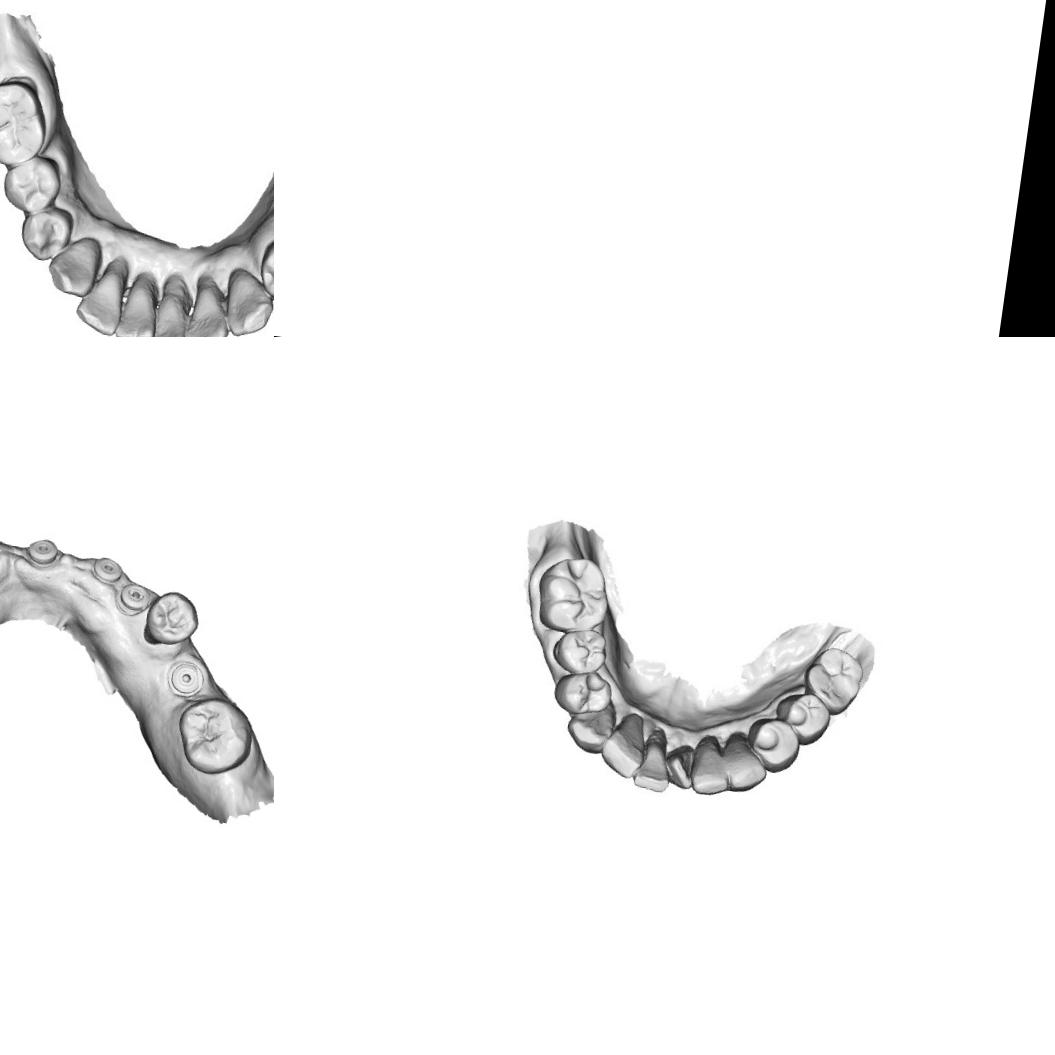canine: (45, 232, 104, 300), (718, 729, 774, 799), (223, 267, 274, 337), (562, 700, 618, 756)
implant: (164, 657, 206, 700), (24, 536, 61, 570), (88, 554, 124, 587)
implant_minus: (112, 579, 154, 618)
incisor: (72, 249, 128, 337), (596, 706, 648, 779), (628, 729, 675, 795), (181, 282, 235, 337), (115, 271, 158, 337), (140, 288, 191, 337), (692, 738, 732, 791), (663, 741, 698, 790)
molar: (170, 693, 258, 780), (534, 553, 616, 639), (0, 74, 50, 169), (804, 648, 866, 718)
premolar: (0, 149, 64, 218), (140, 586, 204, 651), (768, 689, 836, 749), (14, 201, 74, 266), (744, 714, 802, 774), (555, 672, 612, 716), (558, 628, 608, 672), (254, 236, 274, 302)
